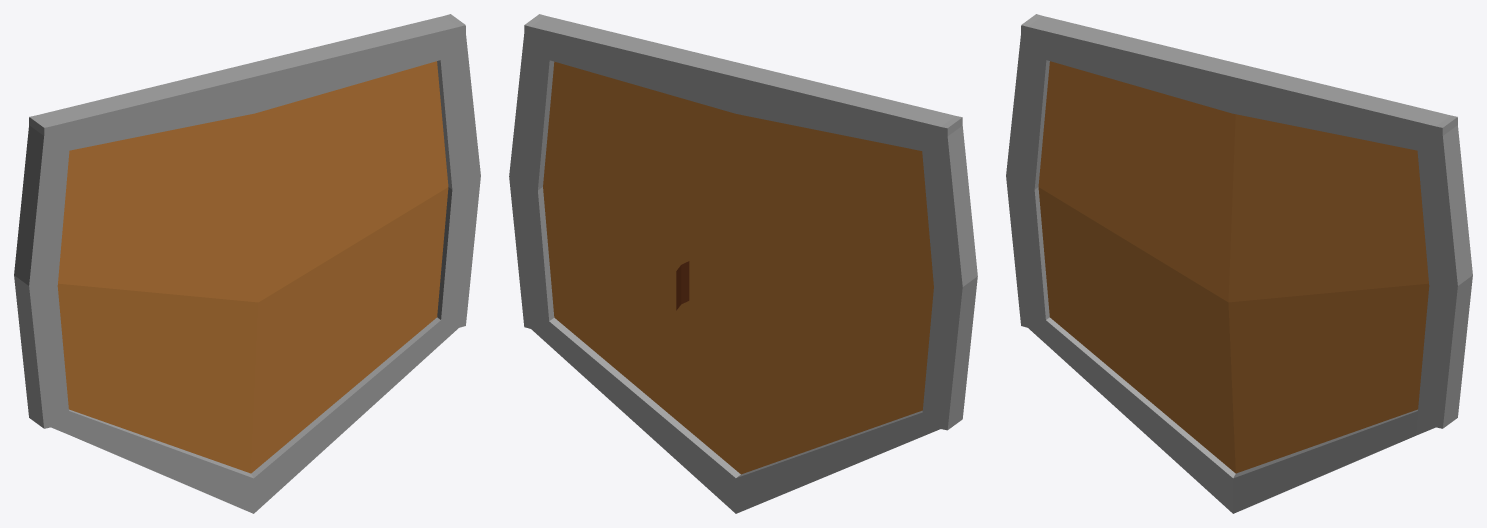
The model's file is shield.fbx.
3 views of the same model, side by side, from view 1: azimuth 30°, elevation 25°; view 2: azimuth 150°, elevation 25°; view 3: azimuth 330°, elevation 25° (orthographic).
Visible parts, largest first — view 1: Plane; view 2: Plane; view 3: Plane.
Boxes of the visible parts, x1,y1,x2,y2 form: Plane: (14,14,480,513); Plane: (509,14,977,513); Plane: (1006,14,1472,513).
Bounding box in the file's own units: 444 × 411 × 56.99.
